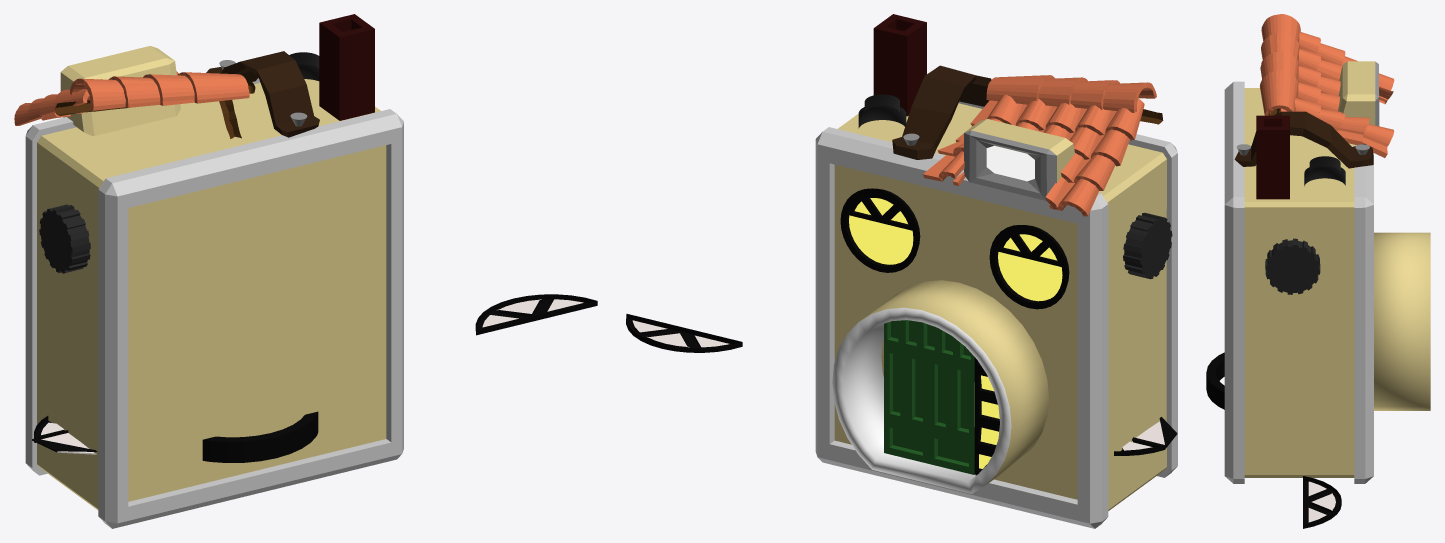
File: vilnei.glb
3 renders of one model, left to right at view 1: azimuth 30°, elevation 25°; view 2: azimuth 150°, elevation 25°; view 3: azimuth 270°, elevation 25°, orthographic. The views are drawn at different scales.
Visible parts, largest first — view 1: Camera.001, Telhado, Chaminé, Flash, Tira, Detalhes da Janela, Moldura da janela, Os trem da camera; view 2: Camera.001, Moldura, Telhado, Porta, Circle, Flash, Tira, Chaminé, Detalhes da Janela, Os trem da camera, janelas da porta, Botão; view 3: Camera.001, Moldura, Telhado, Chaminé, Os trem da camera, Tira, Flash, Detalhes da Janela, Botão, Moldura da janela.
Boxes of the visible parts, x1=… form: Camera.001: x1=25, y1=78, x2=403, y2=528; Telhado: x1=14, y1=71, x2=249, y2=125; Chaminé: x1=319, y1=14, x2=374, y2=120; Flash: x1=60, y1=46, x2=180, y2=135; Tira: x1=206, y1=51, x2=319, y2=137; Detalhes da Janela: x1=32, y1=294, x2=597, y2=454; Moldura da janela: x1=202, y1=411, x2=318, y2=462; Os trem da camera: x1=39, y1=204, x2=90, y2=273; Camera.001: x1=815, y1=101, x2=1177, y2=528; Moldura: x1=832, y1=280, x2=1048, y2=493; Telhado: x1=923, y1=75, x2=1156, y2=216; Porta: x1=884, y1=320, x2=975, y2=474; Circle: x1=840, y1=188, x2=1069, y2=309; Flash: x1=964, y1=119, x2=1074, y2=200; Tira: x1=892, y1=65, x2=991, y2=159; Chaminé: x1=873, y1=14, x2=926, y2=116; Detalhes da Janela: x1=626, y1=314, x2=1177, y2=455; Os trem da camera: x1=1123, y1=212, x2=1172, y2=279; janelas da porta: x1=974, y1=357, x2=999, y2=475; Botão: x1=858, y1=94, x2=906, y2=128; Camera.001: x1=1224, y1=81, x2=1373, y2=483; Moldura: x1=1374, y1=232, x2=1430, y2=410; Telhado: x1=1259, y1=14, x2=1394, y2=157; Chaminé: x1=1256, y1=115, x2=1289, y2=199; Os trem da camera: x1=1265, y1=238, x2=1320, y2=294; Tira: x1=1234, y1=111, x2=1373, y2=168; Flash: x1=1338, y1=61, x2=1379, y2=126; Detalhes da Janela: x1=1303, y1=476, x2=1341, y2=528; Botão: x1=1304, y1=156, x2=1345, y2=186; Moldura da janela: x1=1206, y1=352, x2=1224, y2=409.
Bounding box in the file's own units: 8.59 × 6.22 × 3.56.
